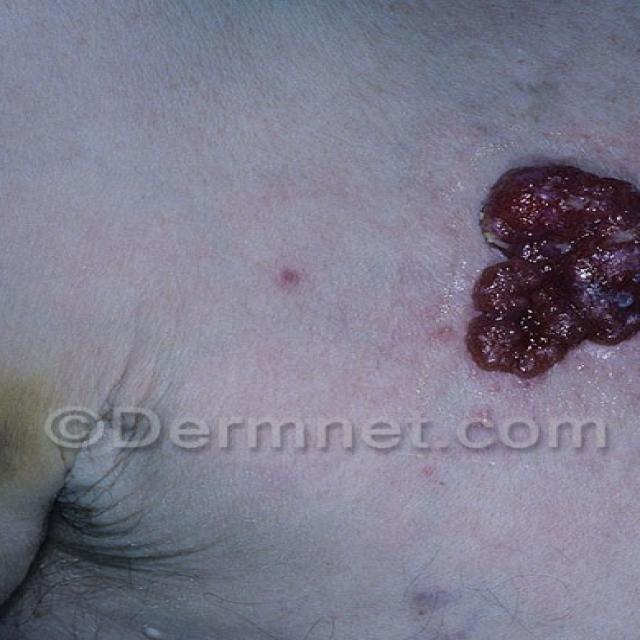Vascular Tumors: (469, 144, 640, 420), (245, 204, 361, 309)
